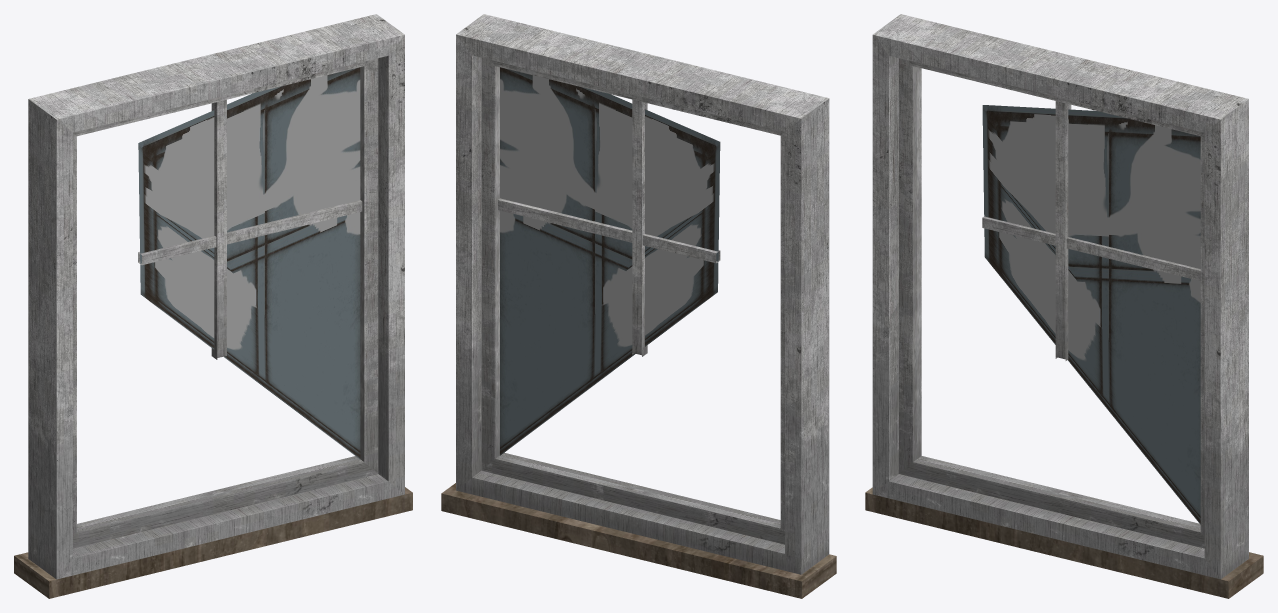
The model's file is broken_window.fbx.
3 views of the same model, side by side, from view 1: azimuth 30°, elevation 25°; view 2: azimuth 150°, elevation 25°; view 3: azimuth 330°, elevation 25° (orthographic).
Visible parts, largest first — view 1: Window_001, Glass_001, Frame_001; view 2: Window_001, Glass_001, Frame_001; view 3: Window_001, Glass_001, Frame_001.
Boxes of the visible parts, x1,y1,x2,y2 form: Window_001: [28, 14, 404, 579]; Glass_001: [138, 67, 360, 458]; Frame_001: [14, 487, 412, 598]; Window_001: [456, 14, 829, 574]; Glass_001: [500, 67, 720, 455]; Frame_001: [441, 483, 836, 598]; Window_001: [872, 14, 1248, 579]; Glass_001: [982, 105, 1200, 524]; Frame_001: [865, 487, 1263, 598].
Size of the model in its own units: 159 by 200 by 26.61.
2 materials, 2 textured.
